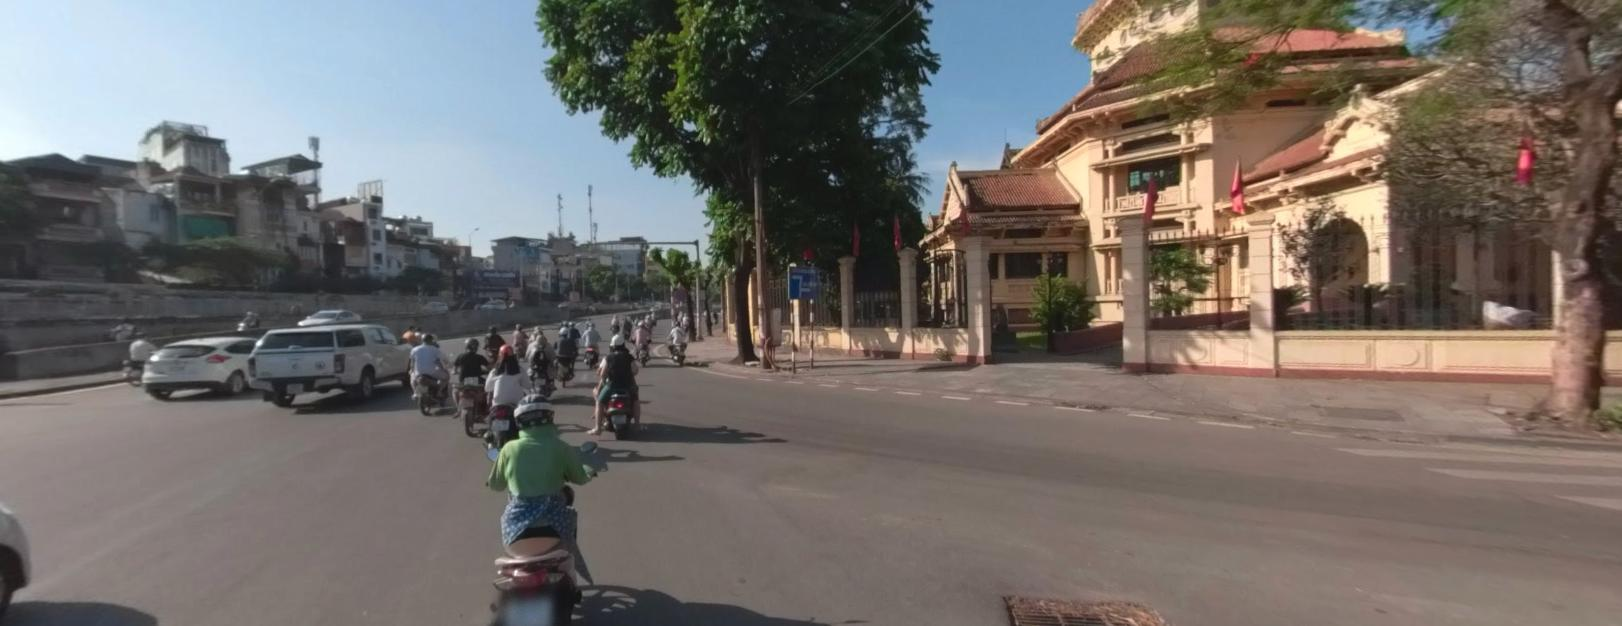Cam dung va do: (673, 287, 687, 300)
